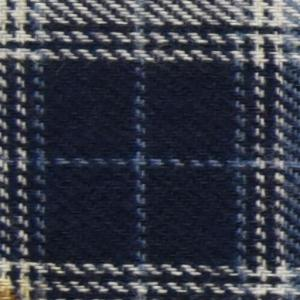Oil Stain: (1, 266, 39, 300)
